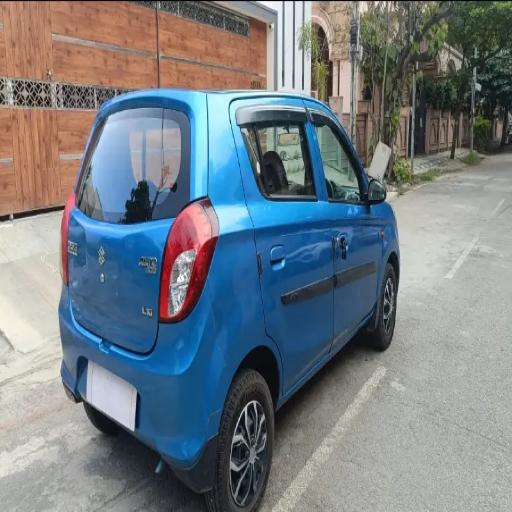License: (80, 353, 141, 435)
